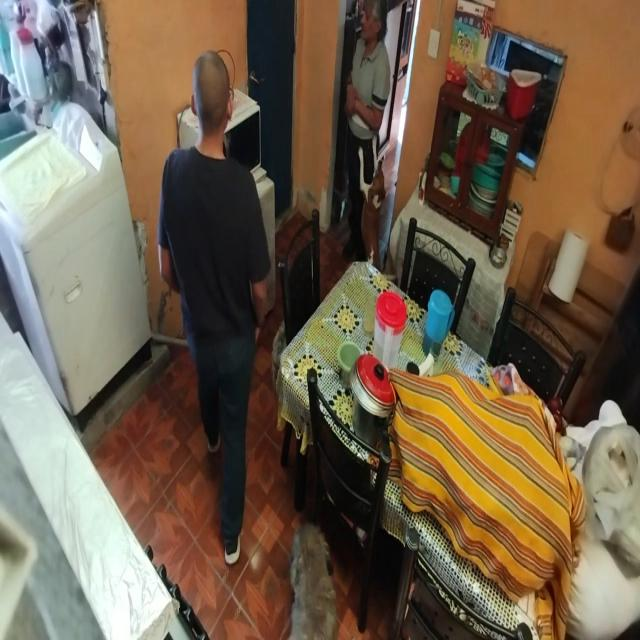adult: (158, 47, 269, 566), (344, 3, 390, 271)
